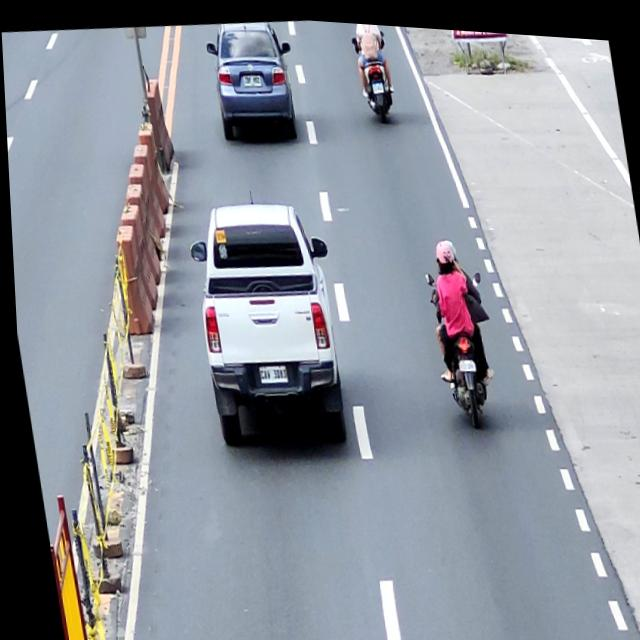Car: (179, 185, 353, 452), (201, 13, 303, 143)
License-Plate: (253, 358, 285, 382), (452, 342, 474, 371), (240, 65, 263, 87), (369, 72, 386, 93)
Motorcycle: (420, 257, 501, 426), (349, 23, 397, 120)
